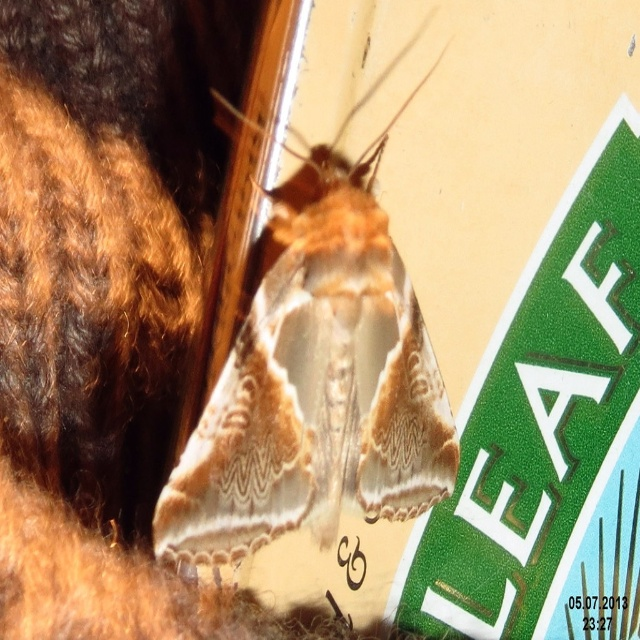Moths and butterflies: (149, 28, 458, 569)
